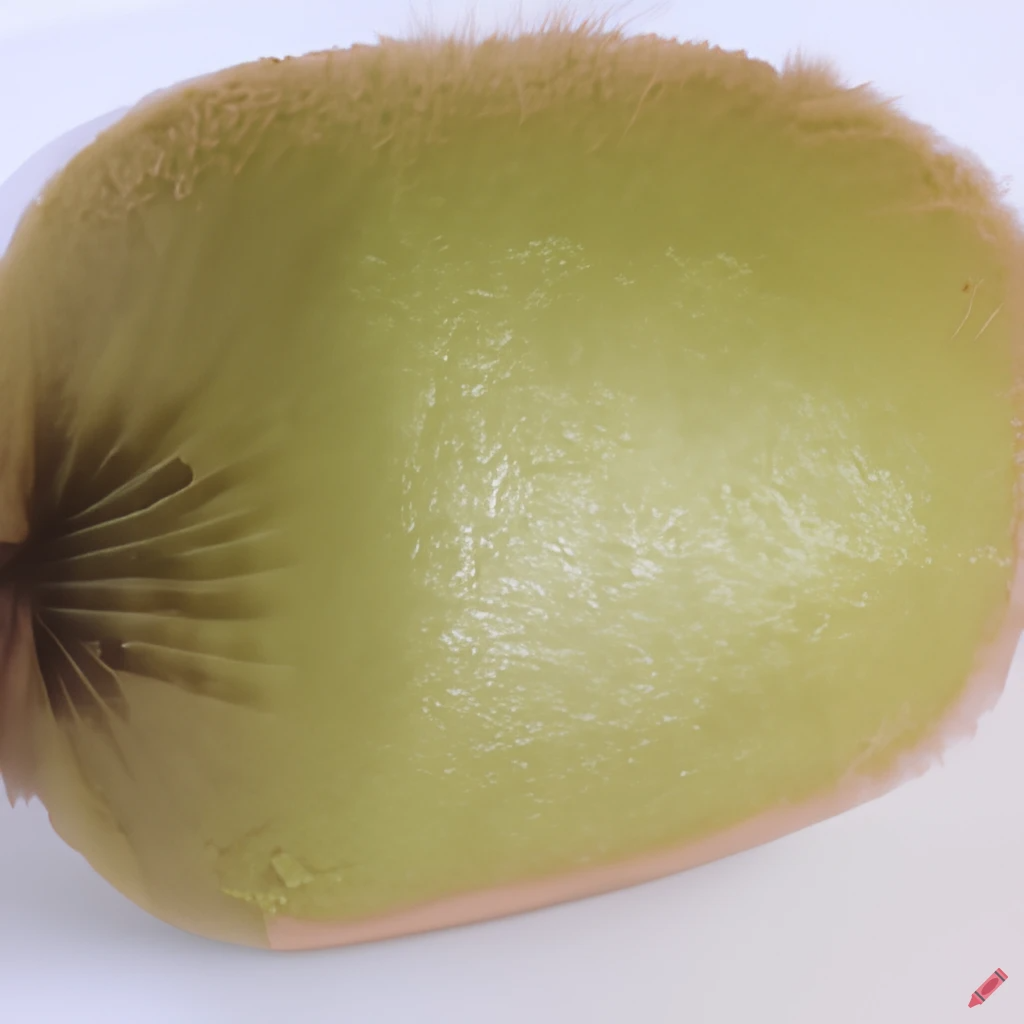Kiwi: (0, 30, 1016, 938)
